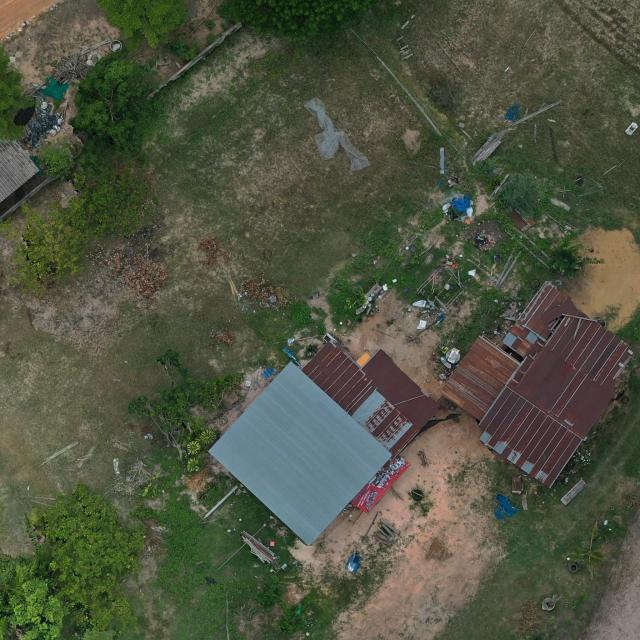Tree: (22, 480, 150, 640), (126, 348, 247, 458), (65, 50, 157, 158), (5, 194, 89, 302), (214, 0, 384, 46), (63, 176, 164, 242), (0, 549, 68, 640), (93, 0, 189, 48)
